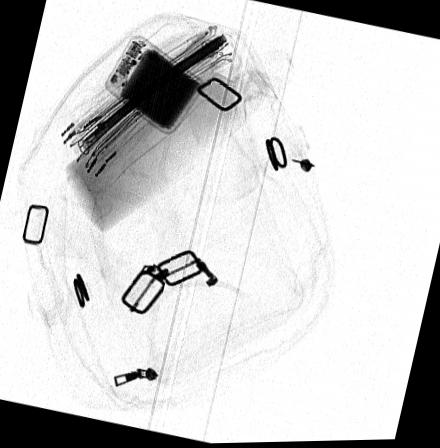Powerbank: (103, 36, 202, 134)
